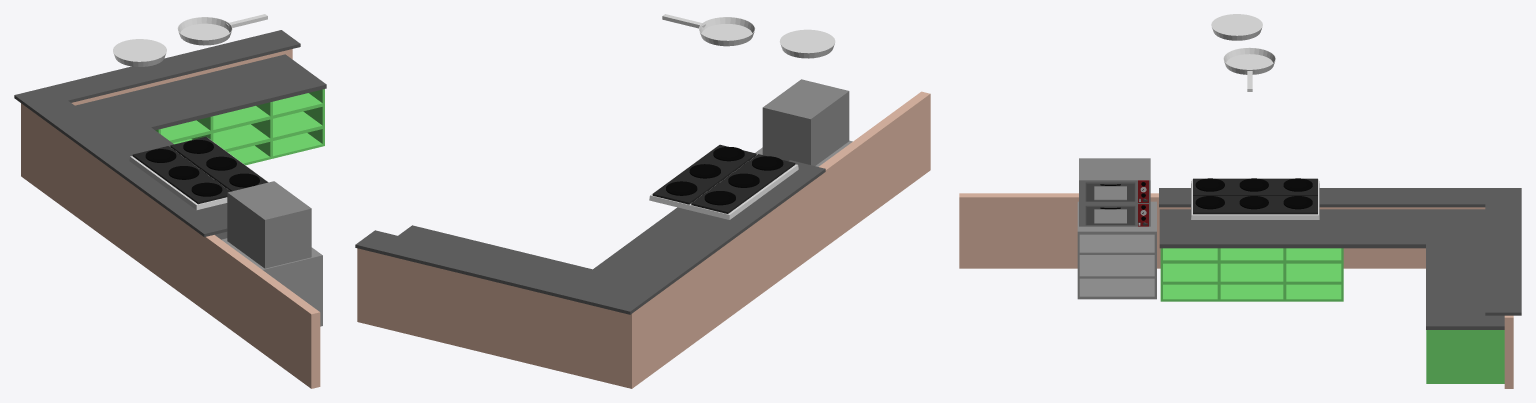
Rendered from kuhnya.fbx.
3 renders of one model, left to right at view 1: azimuth 30°, elevation 25°; view 2: azimuth 150°, elevation 25°; view 3: azimuth 270°, elevation 25°, orthographic. The views are drawn at different scales.
Visible parts, largest first — view 1: Cube.016, Cube.017, Cube.014, Cube.015, Cube.001, Cube.019, Cylinder.006, Cube.013, Cylinder.007, Cylinder.008, Cube.018; view 2: Cube.016, Cube.017, Cube.014, Cube.001, Cube.019, Cylinder.006, Cylinder.007, Cylinder.008, Cube.018; view 3: Cube.014, Cube.016, Cube, Cube.017, Cube.013, Cube.015, Cube.001, Cube.019, Cylinder.006, Cylinder.007, Cylinder.008, Cube.018 (+2 smaller).
Boxes of the visible parts, <box> form: Cube.016: <box>21,49,320,388</box>; Cube.017: <box>14,30,300,237</box>; Cube.014: <box>75,54,326,239</box>; Cube.015: <box>155,89,324,165</box>; Cube.001: <box>227,181,311,268</box>; Cube.019: <box>132,136,268,204</box>; Cylinder.006: <box>145,140,259,196</box>; Cube.013: <box>221,238,322,326</box>; Cylinder.007: <box>177,17,232,45</box>; Cylinder.008: <box>113,39,166,66</box>; Cube.018: <box>129,138,267,210</box>; Cube.016: <box>357,91,930,388</box>; Cube.017: <box>355,160,825,314</box>; Cube.014: <box>398,207,712,288</box>; Cube.001: <box>762,79,849,165</box>; Cube.019: <box>652,144,795,213</box>; Cylinder.006: <box>666,147,783,205</box>; Cylinder.007: <box>699,17,755,46</box>; Cylinder.008: <box>779,29,835,58</box>; Cube.018: <box>649,145,798,219</box>; Cube.014: <box>1159,209,1504,329</box>; Cube.016: <box>959,193,1513,388</box>; Cube: <box>1160,248,1343,301</box>; Cube.017: <box>1159,188,1521,315</box>; Cube.013: <box>1077,201,1156,299</box>; Cube.015: <box>1426,330,1504,383</box>; Cube.001: <box>1079,158,1150,226</box>; Cube.019: <box>1193,178,1317,214</box>; Cylinder.006: <box>1195,178,1312,209</box>; Cylinder.007: <box>1223,47,1275,74</box>; Cylinder.008: <box>1211,14,1262,40</box>; Cube.018: <box>1191,179,1319,219</box>.
Bounding box in the file's own units: 1447 × 1043 × 2334.
